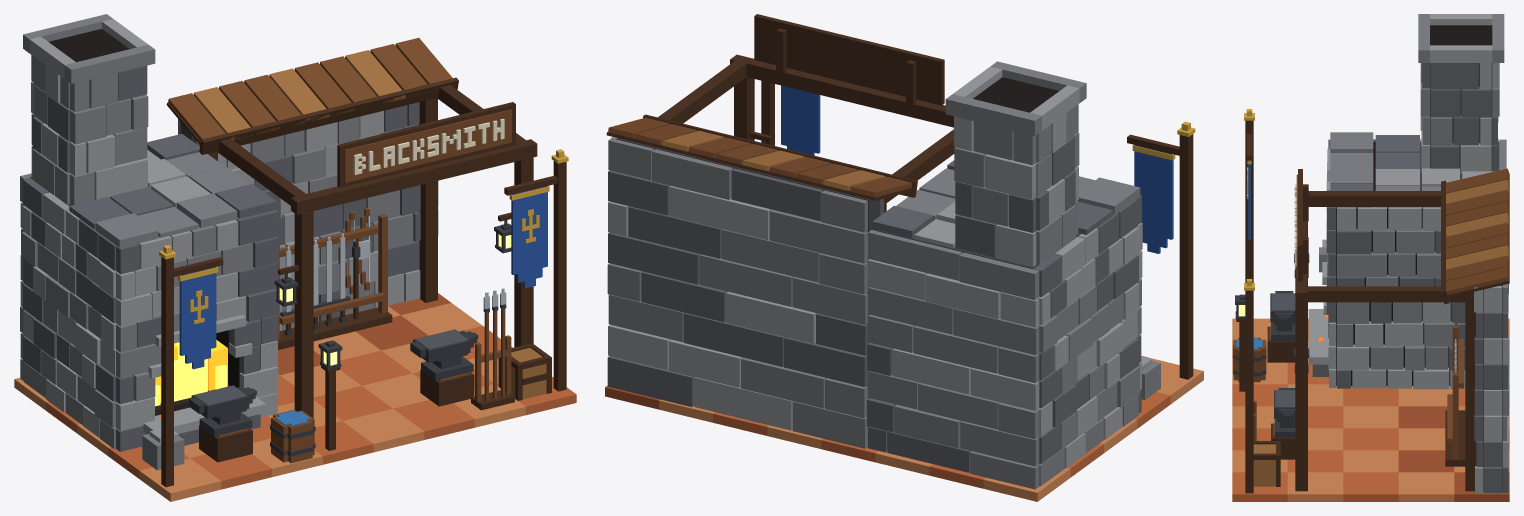
The model's file is Lobby_Blacksmith.glb.
3 renders of one model, left to right at view 1: azimuth 30°, elevation 25°; view 2: azimuth 150°, elevation 25°; view 3: azimuth 270°, elevation 25°, orthographic. The views are drawn at different scales.
Parts seen in each view (by area): view 1: Forge_StoneLight, Forge_StoneDark, Forge_StoneMid, Timber_WoodDark, Platform_TerracottaLight, Platform_Terracotta, Chimney_StoneMid, Roof_Wood, BackWall_StoneMid, Chimney_StoneLight, BackWall_StoneDark, BackWall_StoneLight (+33 smaller); view 2: Forge_StoneMid, BackWall_StoneMid, BackWall_StoneDark, Forge_StoneLight, BackWall_StoneLight, Forge_StoneDark, Chimney_StoneMid, Sign_WoodDark, Timber_WoodDark, Chimney_StoneLight, Roof_Wood, Platform_TerracottaLight (+10 smaller); view 3: Platform_TerracottaLight, Forge_StoneMid, Forge_StoneLight, Timber_WoodDark, Platform_Terracotta, Forge_StoneDark, Roof_Wood, Chimney_StoneDark, Chimney_StoneLight, BackWall_StoneDark, Platform_TerracottaDark, BackWall_StoneLight (+24 smaller).
Part boxes in pixels (<box>): Forge_StoneLight: <box>20,150,278,437</box>; Forge_StoneDark: <box>23,134,278,451</box>; Forge_StoneMid: <box>20,152,252,448</box>; Timber_WoodDark: <box>199,85,537,418</box>; Platform_TerracottaLight: <box>14,303,525,501</box>; Platform_Terracotta: <box>45,326,576,489</box>; Chimney_StoneMid: <box>23,14,155,205</box>; Roof_Wood: <box>168,37,455,141</box>; BackWall_StoneMid: <box>178,116,413,330</box>; Chimney_StoneLight: <box>29,19,147,199</box>; BackWall_StoneDark: <box>192,102,438,321</box>; BackWall_StoneLight: <box>218,110,420,330</box>; Forge_StoneMid: <box>867,168,1141,489</box>; BackWall_StoneMid: <box>607,138,867,448</box>; BackWall_StoneDark: <box>607,168,883,406</box>; Forge_StoneLight: <box>867,201,1142,468</box>; BackWall_StoneLight: <box>608,137,816,430</box>; Forge_StoneDark: <box>867,160,1141,472</box>; Chimney_StoneMid: <box>945,61,1086,264</box>; Sign_WoodDark: <box>754,14,944,105</box>; Timber_WoodDark: <box>658,54,955,212</box>; Chimney_StoneLight: <box>953,66,1079,266</box>; Roof_Wood: <box>608,117,912,197</box>; Platform_TerracottaLight: <box>659,358,1203,501</box>; Platform_TerracottaLight: <box>1232,318,1509,501</box>; Forge_StoneMid: <box>1319,132,1506,370</box>; Forge_StoneLight: <box>1308,139,1494,389</box>; Timber_WoodDark: <box>1295,191,1476,491</box>; Platform_Terracotta: <box>1232,318,1509,501</box>; Forge_StoneDark: <box>1312,135,1498,388</box>; Roof_Wood: <box>1446,168,1508,294</box>; Chimney_StoneDark: <box>1422,63,1498,171</box>; Chimney_StoneLight: <box>1420,14,1499,173</box>; BackWall_StoneDark: <box>1474,294,1508,492</box>; Platform_TerracottaDark: <box>1398,406,1509,501</box>; BackWall_StoneLight: <box>1474,286,1508,492</box>.
Bounding box in the file's own units: 6 × 5 × 4.
